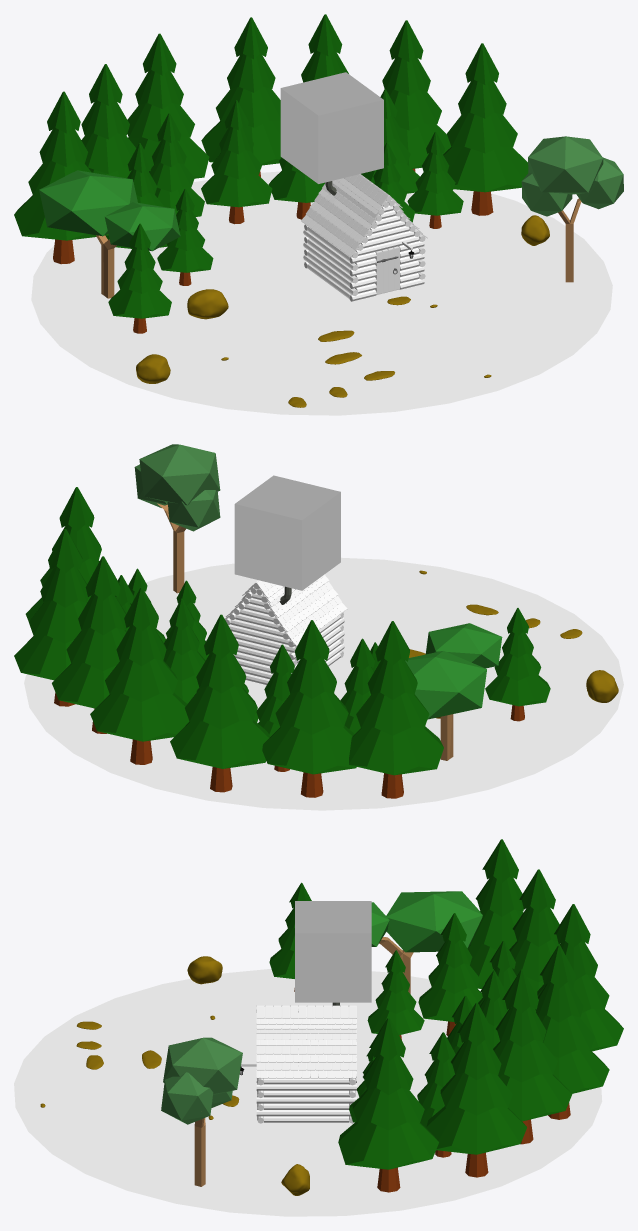
The model's file is forest_house.glb.
3 renders of one model, top to bottom at view 1: azimuth 30°, elevation 25°; view 2: azimuth 150°, elevation 25°; view 3: azimuth 270°, elevation 25°, orthographic. The views are drawn at different scales.
Parts seen in each view (by area): view 1: Circle, Cube, 柱体.003, 柱体.001, 柱体.006, 柱体.009, 柱体.008, Main Part, Icosphere.007, 柱体.004, Roof, 柱体.007 (+20 smaller); view 2: Circle, Cube, 柱体.009, 柱体.006, 柱体.001, 柱体.007, 柱体.002, 柱体.008, Icosphere.007, Icosphere.004, 柱体.005, Roof (+12 smaller); view 3: Circle, 柱体.003, 柱体.008, Cube, Roof, 柱体.002, 柱体.001, Main Part, 柱体.006, Icosphere.007, 柱体.009, 柱体.010 (+13 smaller).
Part boxes in pixels (x1,y1,x2,y2): Circle: (31,171,612,415); Cube: (280,72,383,183); 柱体.003: (443,43,528,215); 柱体.001: (201,17,281,177); 柱体.006: (14,91,108,264); 柱体.009: (127,33,209,178); 柱体.008: (382,20,451,171); Main Part: (303,224,425,301); Icosphere.007: (39,170,137,236); 柱体.004: (201,100,272,224); Roof: (301,174,427,257); 柱体.007: (81,64,136,178); Circle: (24,557,623,810); Cube: (234,475,340,590); 柱体.009: (170,614,269,792); 柱体.006: (349,621,443,798); 柱体.001: (90,587,189,764); 柱体.007: (262,620,356,797); 柱体.002: (52,556,126,733); 柱体.008: (14,529,88,706); Icosphere.007: (405,651,486,719); Icosphere.004: (139,444,220,505); 柱体.005: (485,608,550,721); Roof: (225,574,347,646); Circle: (14,968,602,1216); 柱体.003: (338,1017,438,1192); 柱体.008: (426,1002,526,1177); Cube: (295,901,371,1002); Roof: (256,1005,356,1078); 柱体.002: (493,969,572,1144); 柱体.001: (535,945,609,1119); Main Part: (256,1062,356,1123); 柱体.006: (467,839,523,988); Icosphere.007: (386,891,482,952); 柱体.009: (536,904,623,1051); 柱体.010: (418,913,482,1035).
Bounding box in the file's own units: 35.14 × 12.31 × 36.44.
